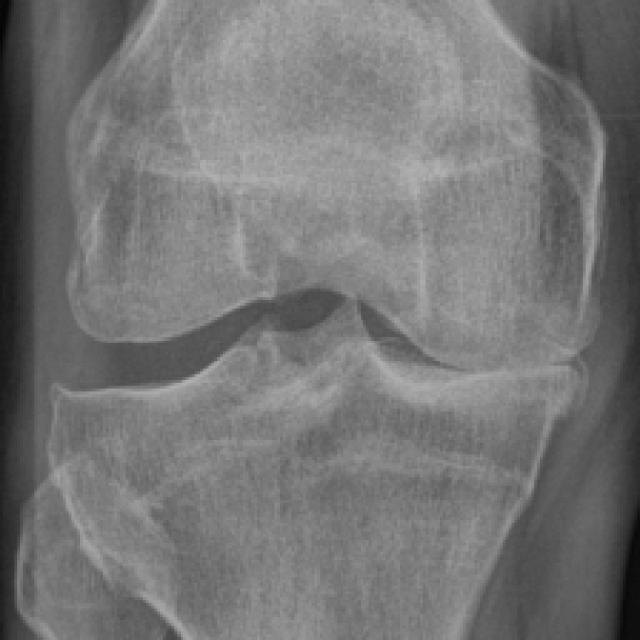femur: (69, 1, 607, 371)
tibia: (45, 303, 590, 637)
